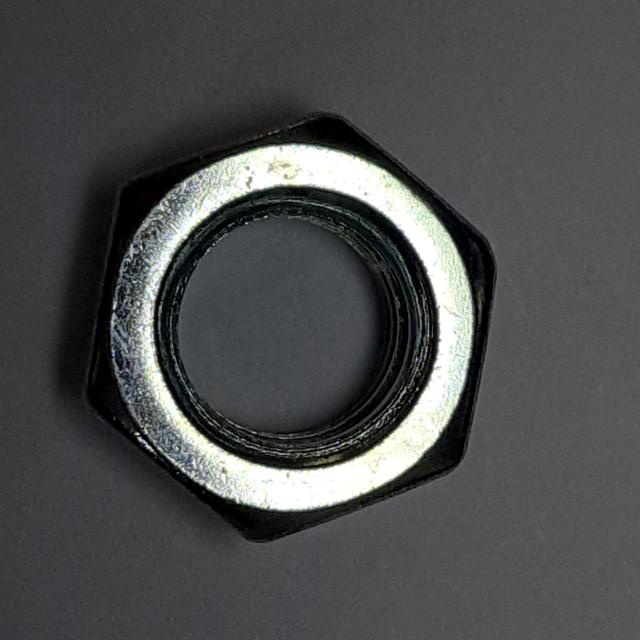Excellent: (72, 96, 507, 556)
